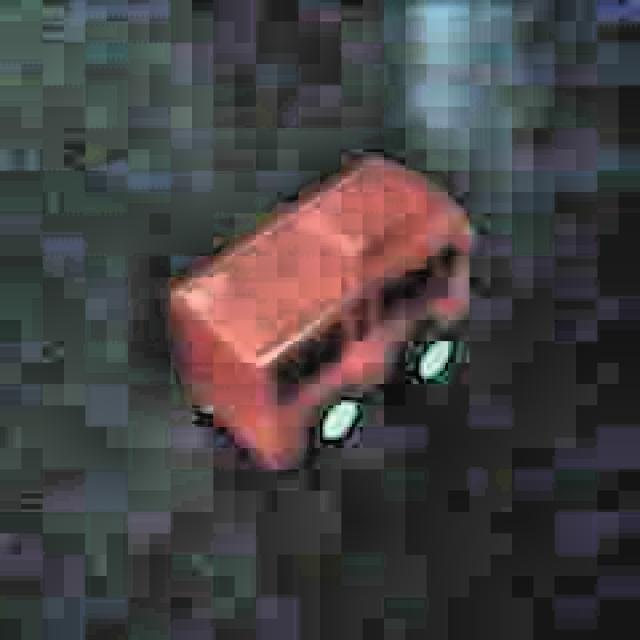bus: (162, 144, 482, 476)
